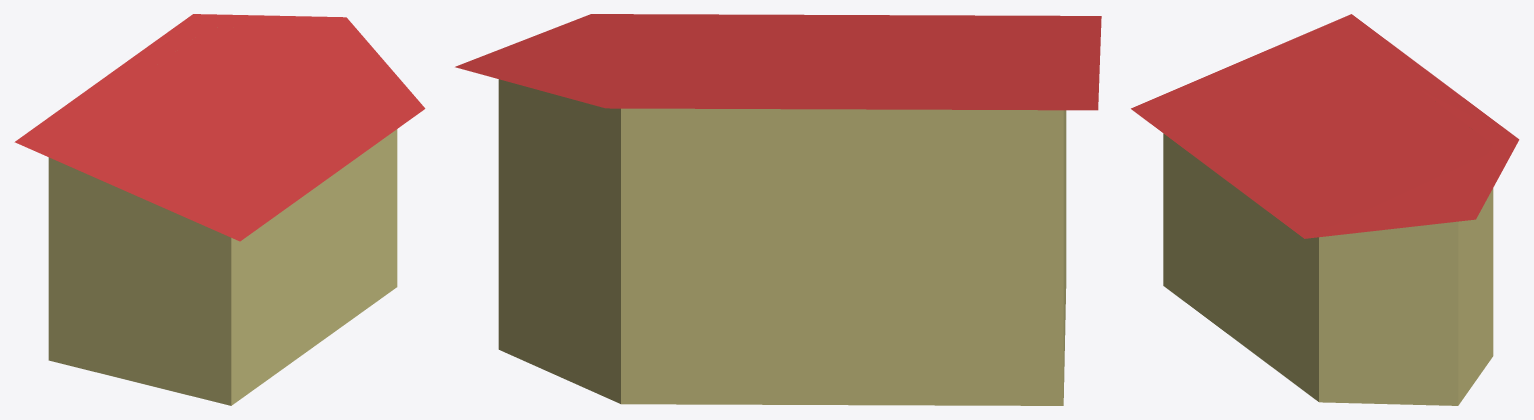
3 renders of one model, left to right at view 1: azimuth 30°, elevation 25°; view 2: azimuth 150°, elevation 25°; view 3: azimuth 270°, elevation 25°, orthographic. The views are drawn at different scales.
Bounding box in the file's own units: 13.75 × 12.06 × 7.36.
